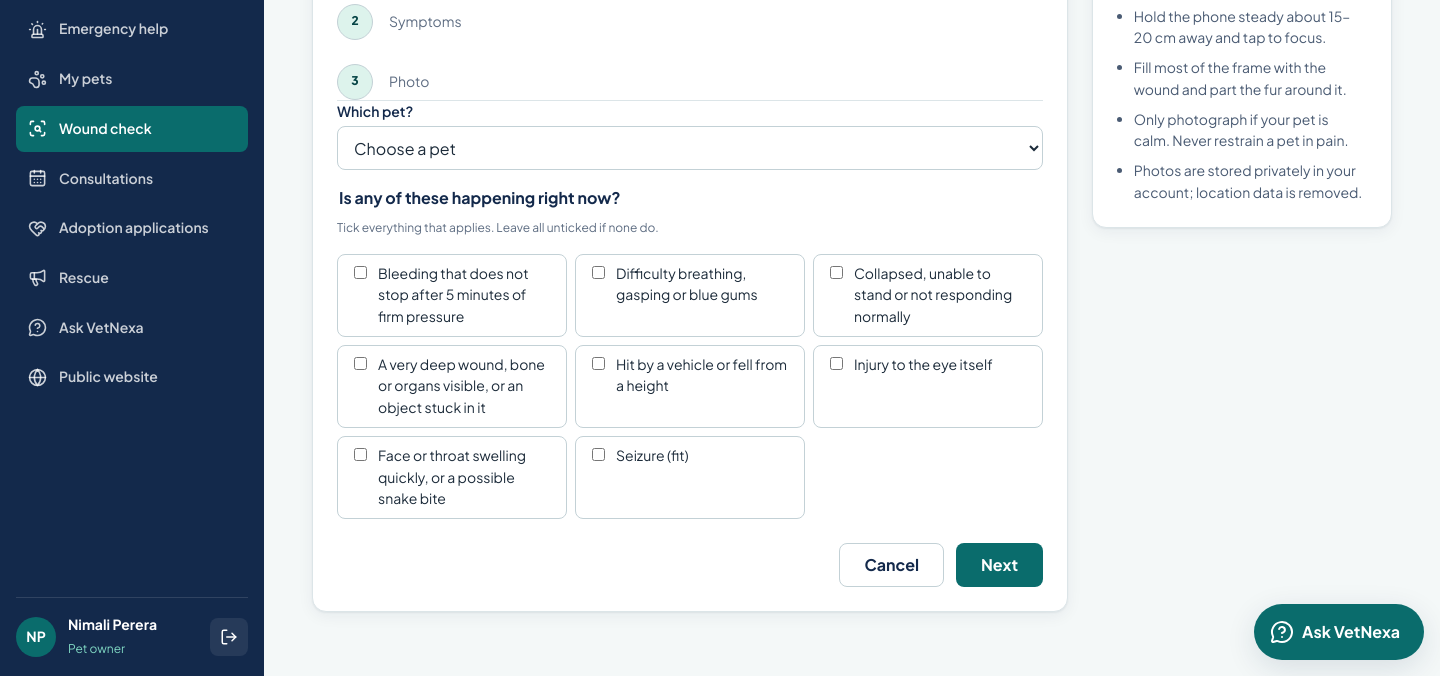
it: new wound check › asks for a pet first and shows red-flag emergencies at once
(page scrolled)
Click the button "Next". click: [1000, 565]
box: [956,543,1043,587]
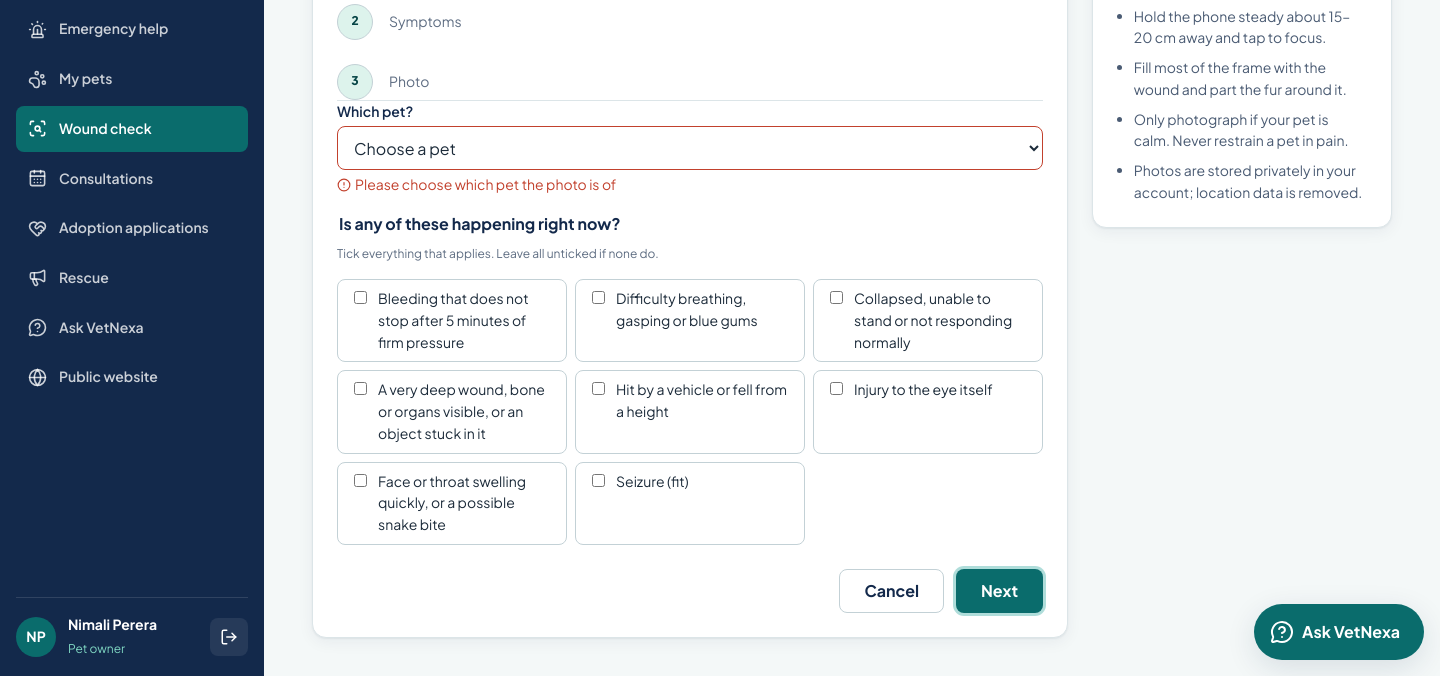
Expected: the text "Please choose which pet the photo is of" is shown, [337,175,616,193]
Select "Bruno" in the dropdown labelled "Which pet?". click: [690, 148]
box: [337,126,1043,170]
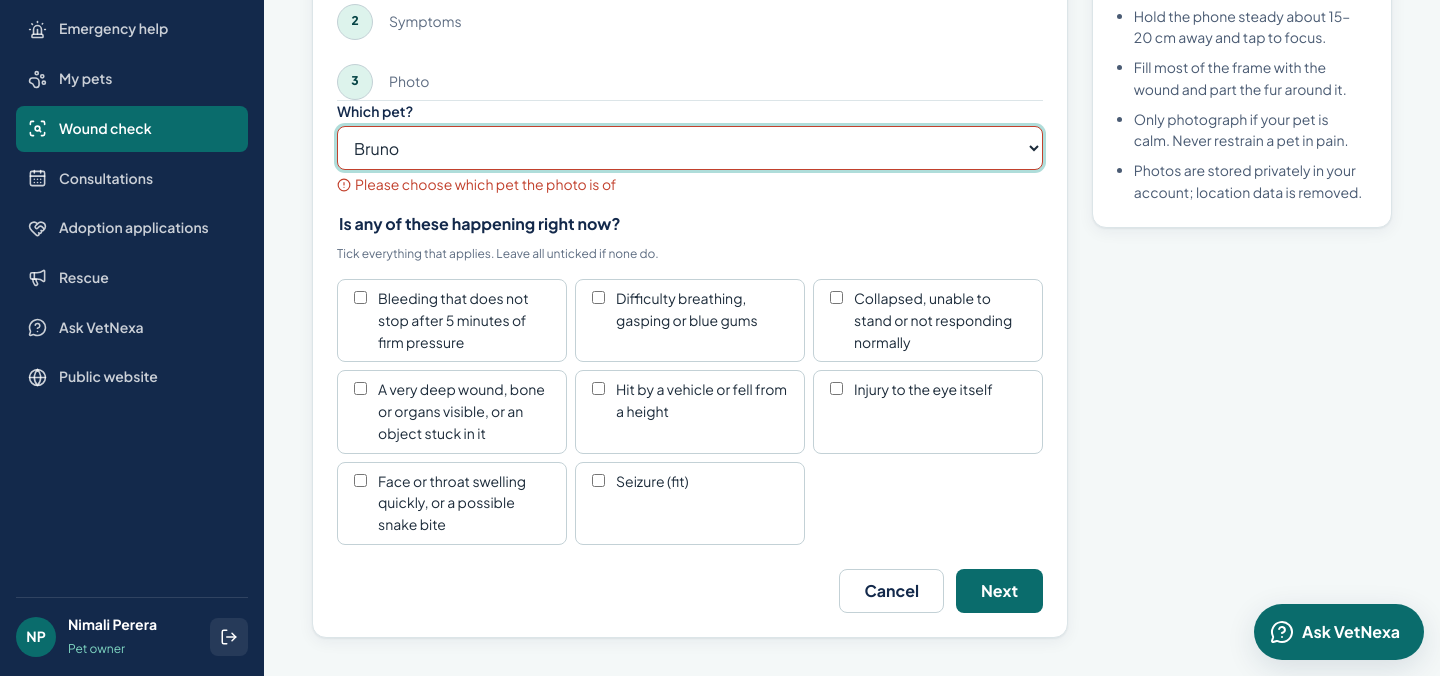
Click the checkbox labelled "Difficulty breathing, gasping or blue gums". click: [598, 298]
box: [592,291,605,304]
(page scrolled)
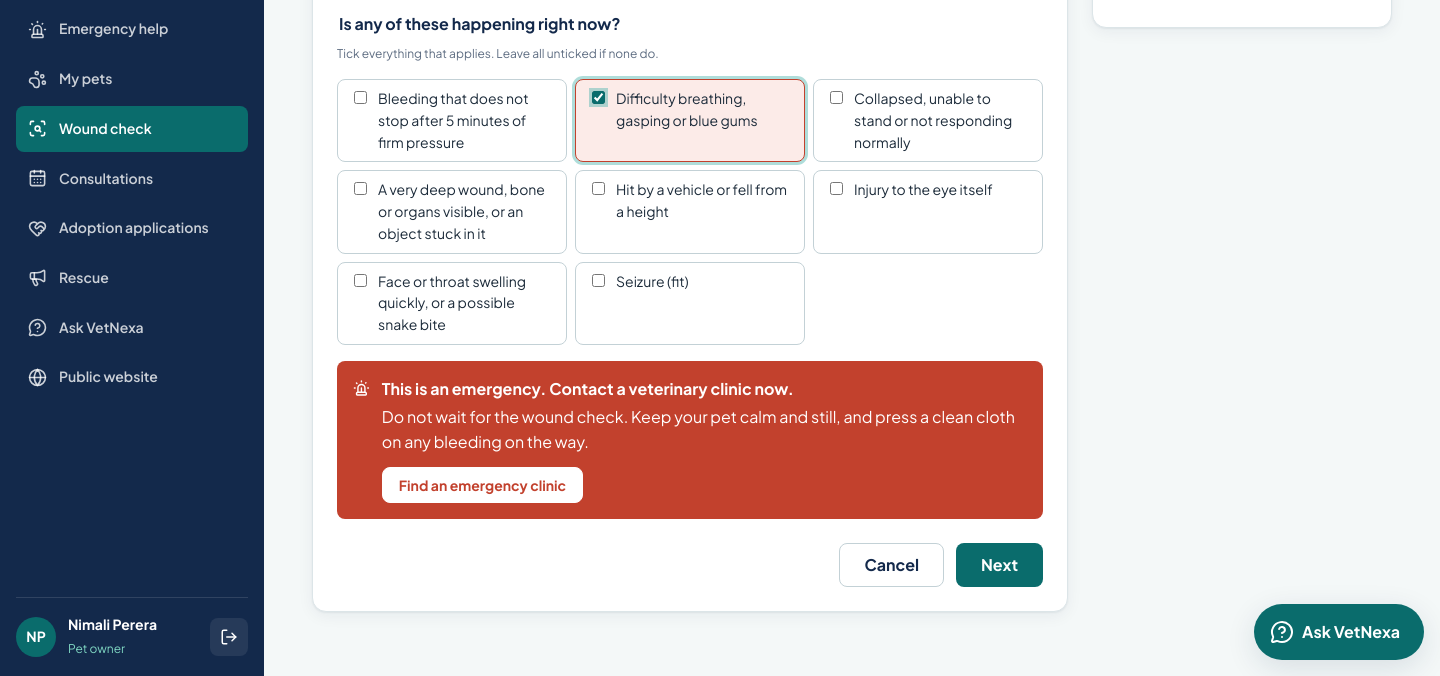
Expected: the message shows "This is an emergency", [382,378,794,399]
